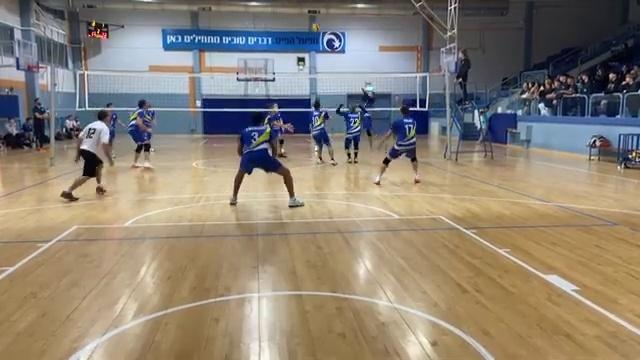ball: (311, 22, 321, 34)
